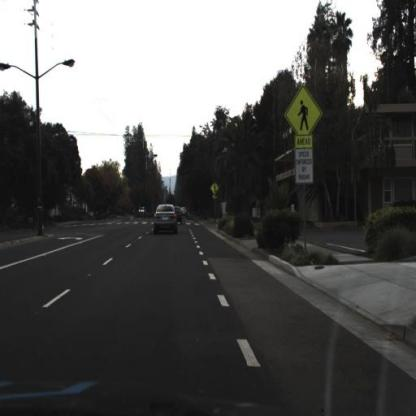car: (150, 197, 180, 245), (134, 202, 150, 223), (173, 200, 182, 226), (174, 203, 182, 231), (181, 200, 189, 221)
